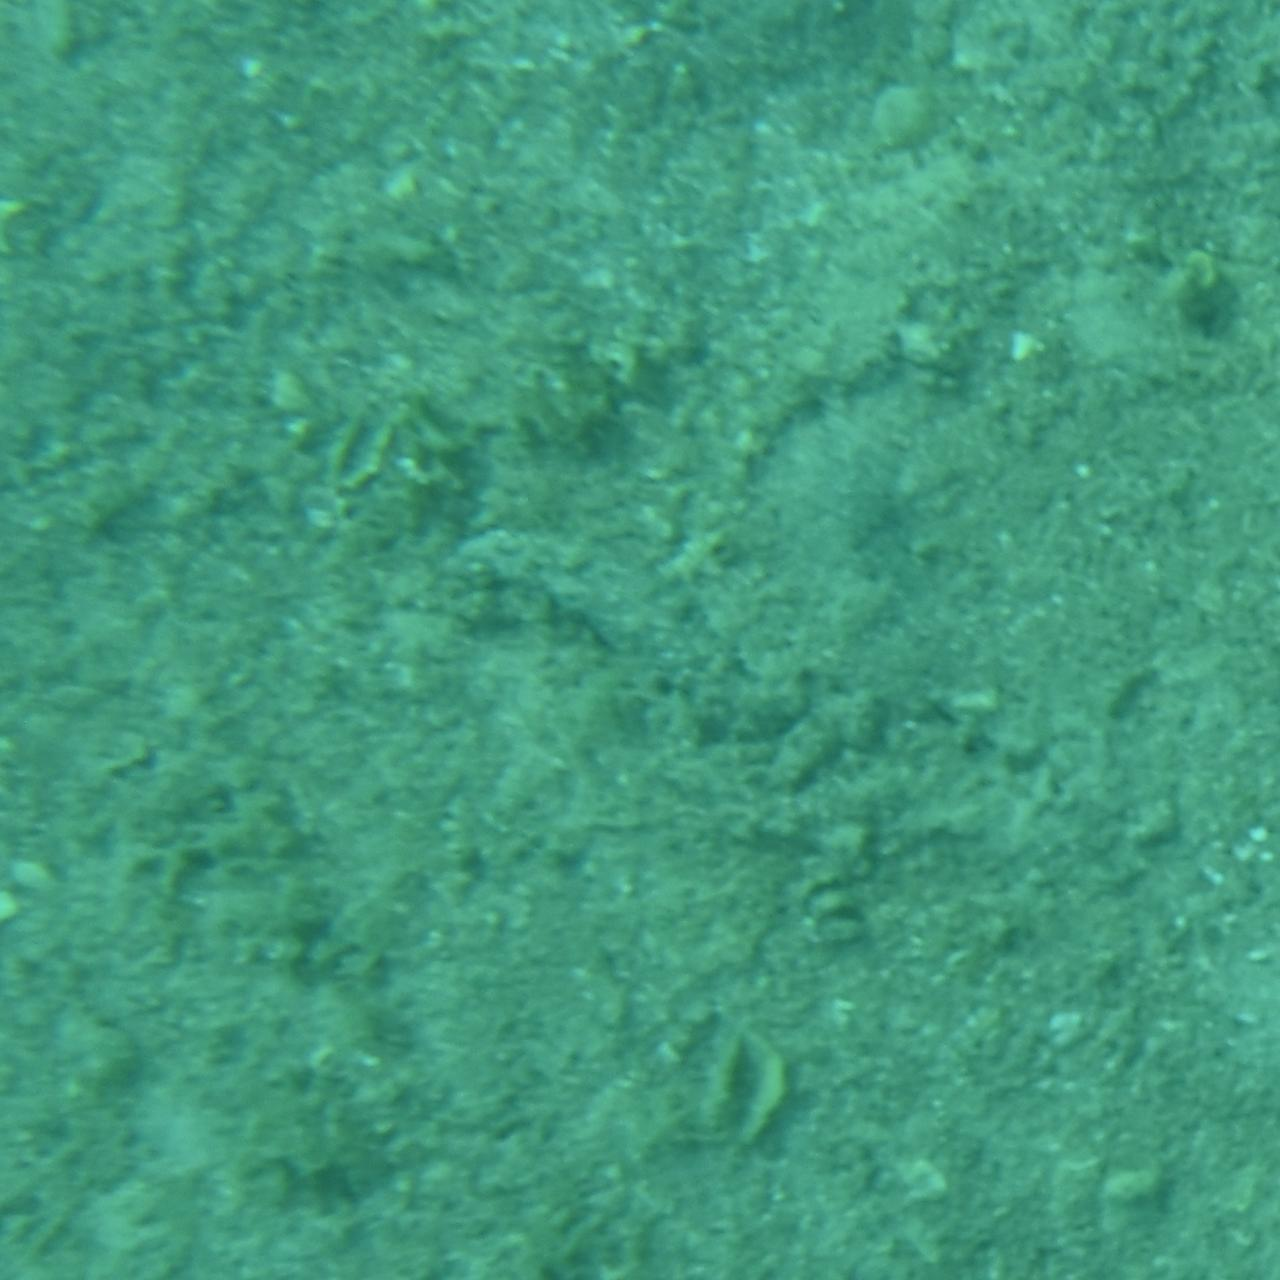Holothuria tubulosa: (442, 506, 838, 774)
